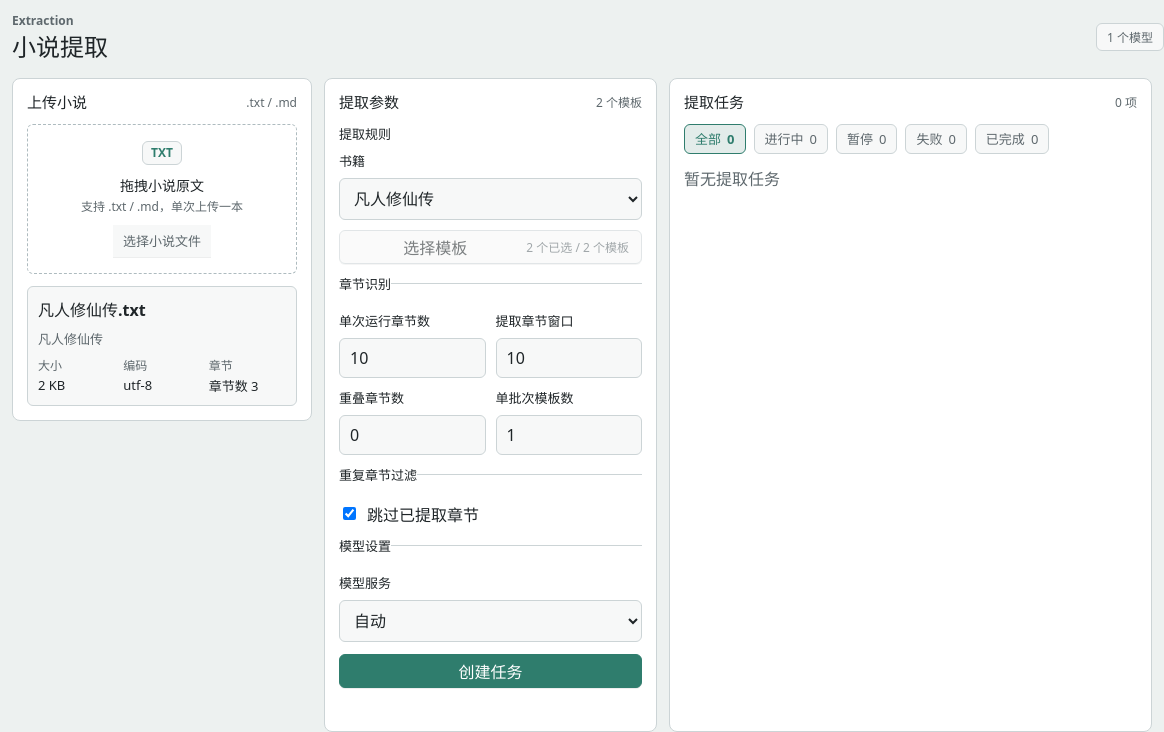
Test case: ExtractionPage › previews selected templates after hovering the selector for half a second
The image size is (1164, 732).
Step 1. Hover over the element "选择模板 2 个已选 / 2 个模板" → (490, 246), box top-left (339, 230), bottom-right (642, 264)
Wait 500 ms
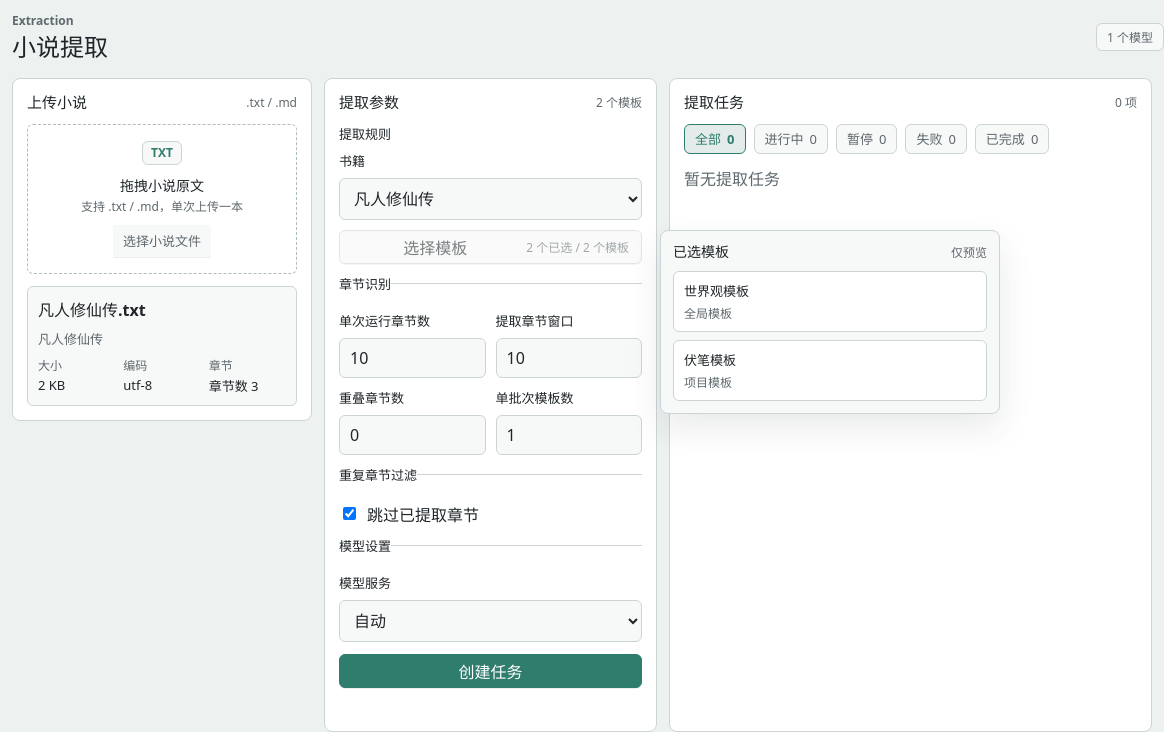
Expected: the text "世界观模板" is shown, top-left (684, 282), bottom-right (749, 300)
Expected: the text "伏笔模板" is shown, top-left (684, 350), bottom-right (736, 368)
Expected: the element named "已选模板预览" shows "仅预览", top-left (951, 244), bottom-right (987, 260)
Step 2. Move the pointer off the element "选择模板 2 个已选 / 2 个模板 已选模板 仅预览 世界观模板 全局模板 伏笔模板 项目模板", box top-left (339, 230), bottom-right (642, 264)
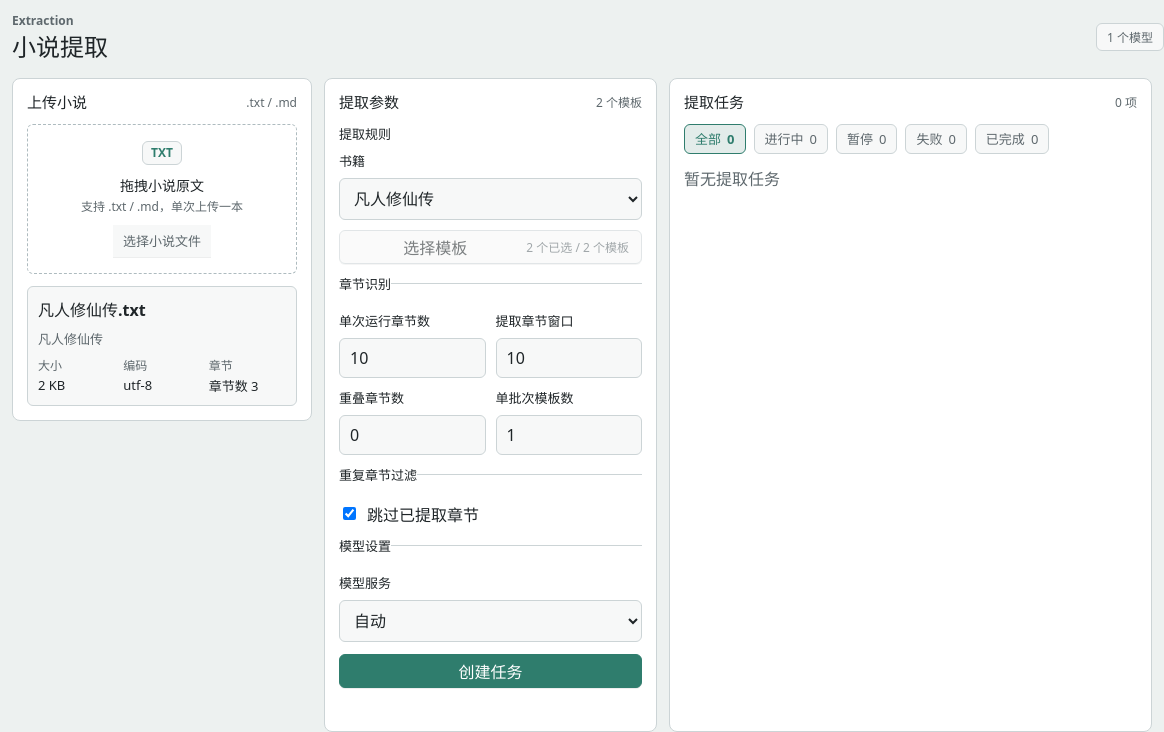
Expected: the element "已选模板预览" is gone
